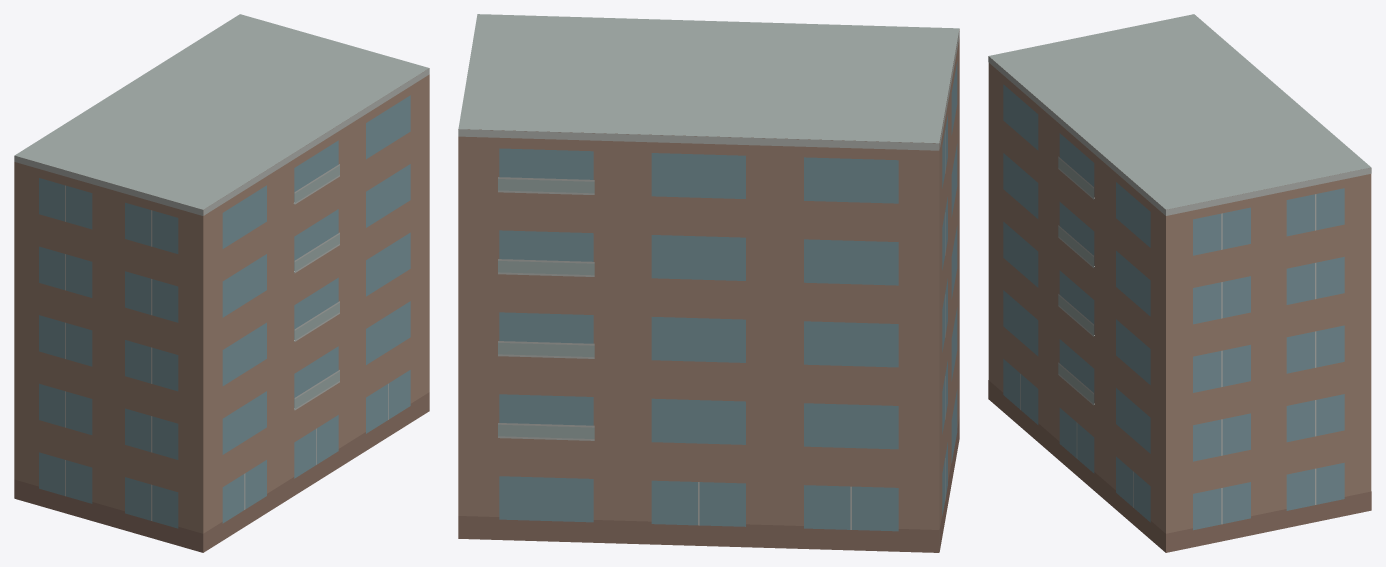
File: survey-upis-32746000.glb
3 views of the same model, side by side, from view 1: azimuth 30°, elevation 25°; view 2: azimuth 150°, elevation 25°; view 3: azimuth 270°, elevation 25° (orthographic). The views are drawn at different scales.
Visible parts, largest first — view 1: survey-upis-32746000.tmp; view 2: survey-upis-32746000.tmp; view 3: survey-upis-32746000.tmp.
Boxes of the visible parts, box(x1,y1,x2,y2) form: survey-upis-32746000.tmp: box(14, 14, 429, 552); survey-upis-32746000.tmp: box(458, 14, 959, 552); survey-upis-32746000.tmp: box(988, 14, 1371, 552).
Bounding box in the file's own units: 16.28 × 13.3 × 13.46.
